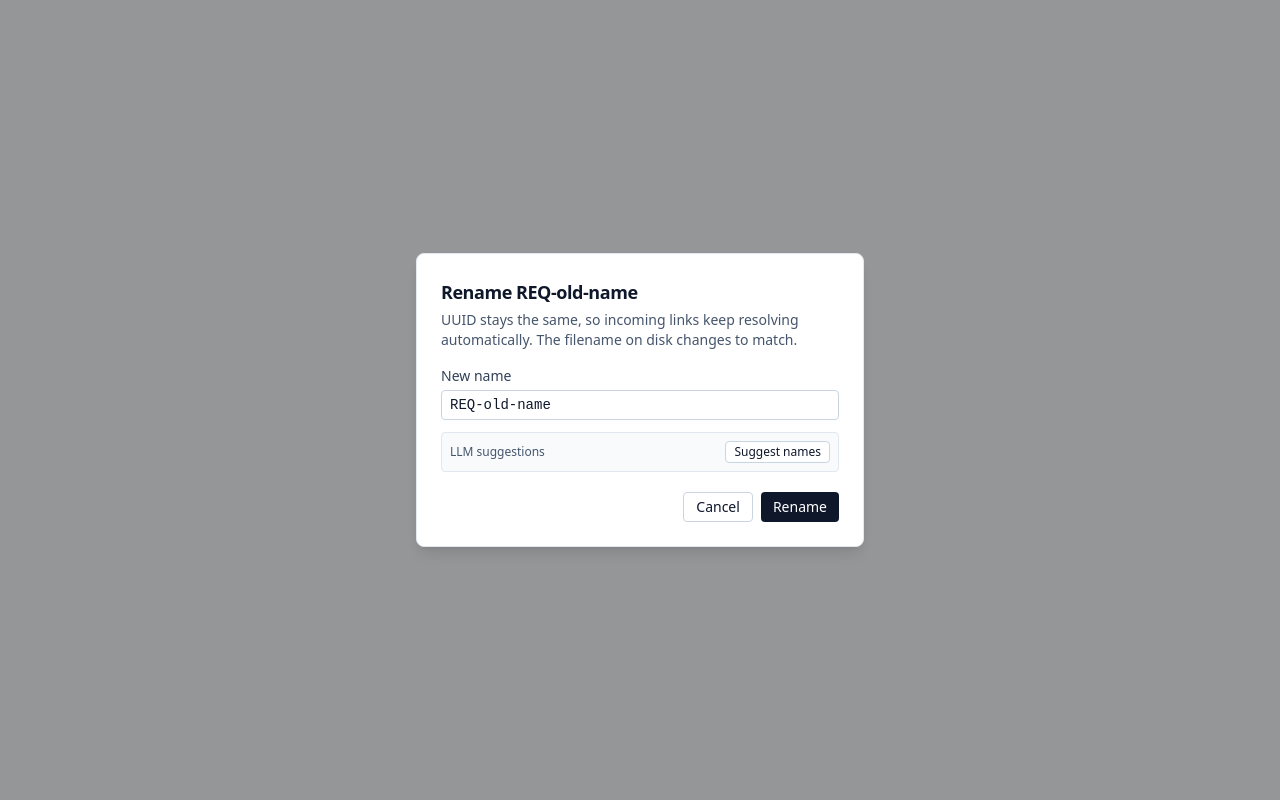
Test case: RenameArtifactDialog › surfaces the privacy-ack-required arm with a link to /llm
The image size is (1280, 800).
Click the button with test id "rename-suggest-button": (778, 452) left=725, top=441, right=830, bottom=463
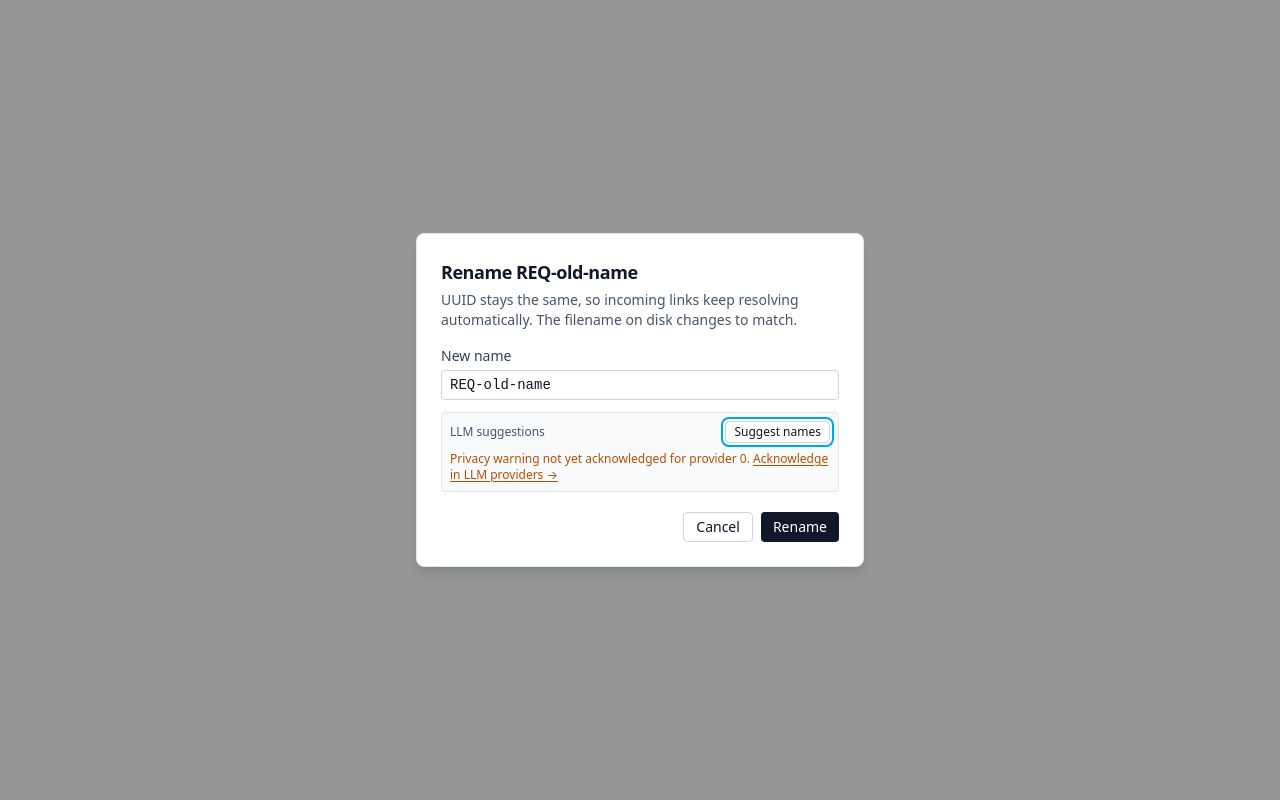
Now the message with test id "rename-suggest-privacy-alert" is shown, box left=450, top=451, right=830, bottom=483
